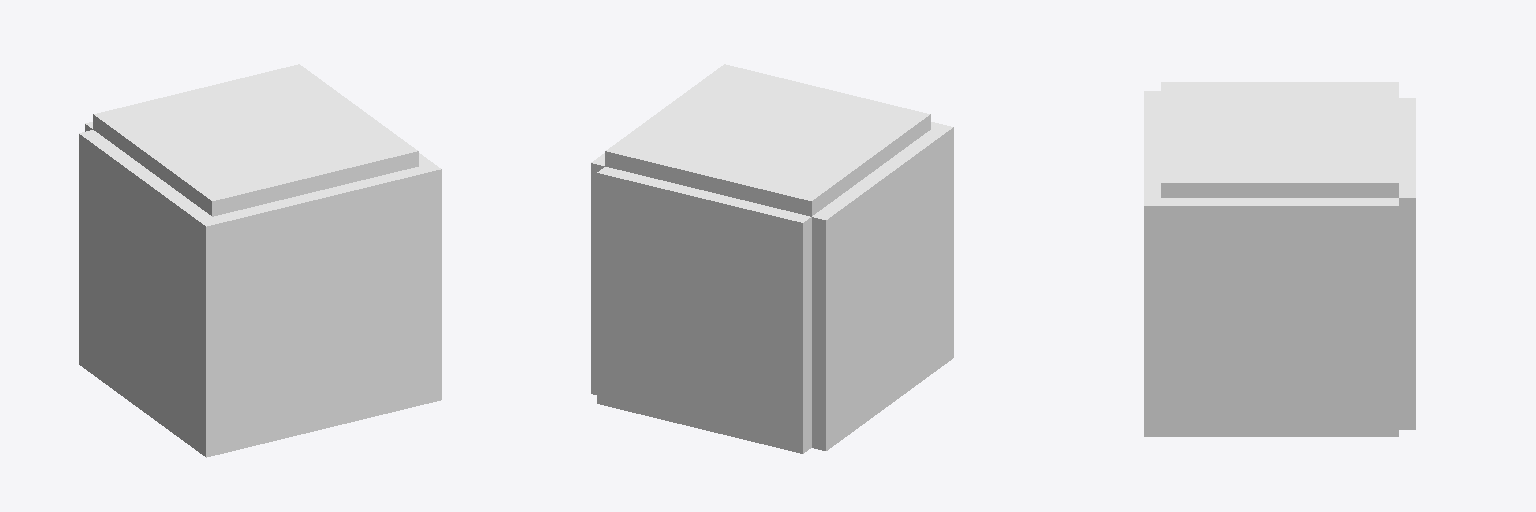
Rendered from genlv1.obj.
3 views of the same model, side by side, from view 1: azimuth 30°, elevation 25°; view 2: azimuth 150°, elevation 25°; view 3: azimuth 270°, elevation 25° (orthographic).
Visible parts, largest first — view 1: object 1; view 2: object 1; view 3: object 1.
Boxes of the visible parts, <box> form: object 1: <box>79,64,441,457</box>; object 1: <box>591,64,953,453</box>; object 1: <box>1144,82,1415,436</box>.
Size of the model in its own units: 1.6 by 1.6 by 1.6.